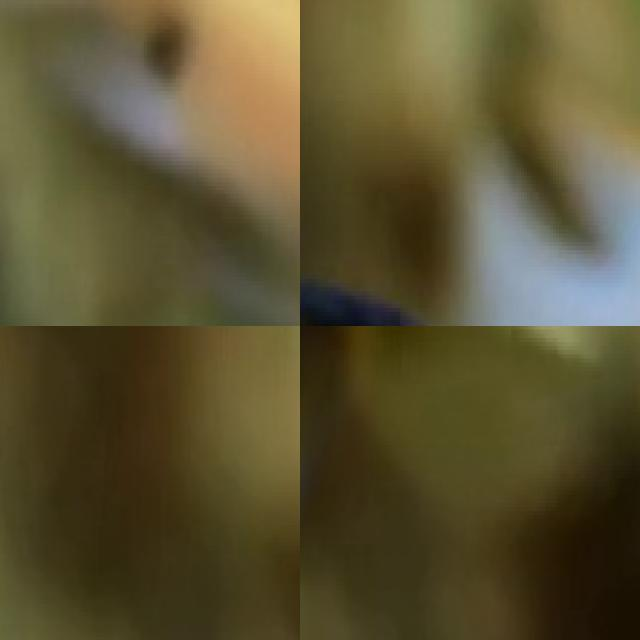fish: (0, 0, 300, 326), (300, 151, 640, 326)
